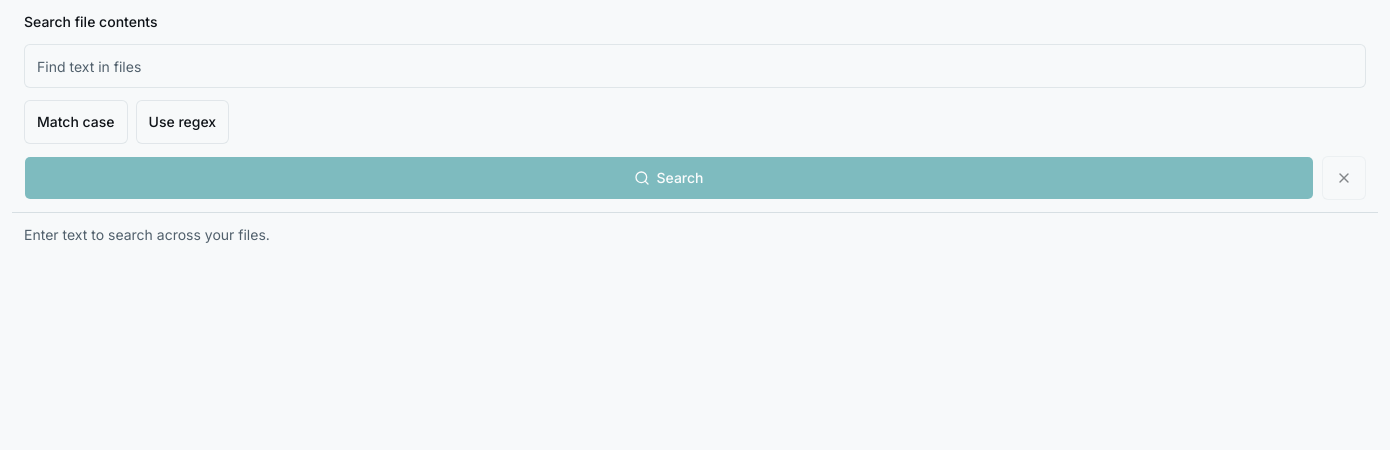
Test: loads the next page with the returned cursor and appends results
This screenshot has width=1390, height=450.
Step 1. Type "items" into the field → (695, 66), box [24, 44, 1366, 88]
Then press Enter
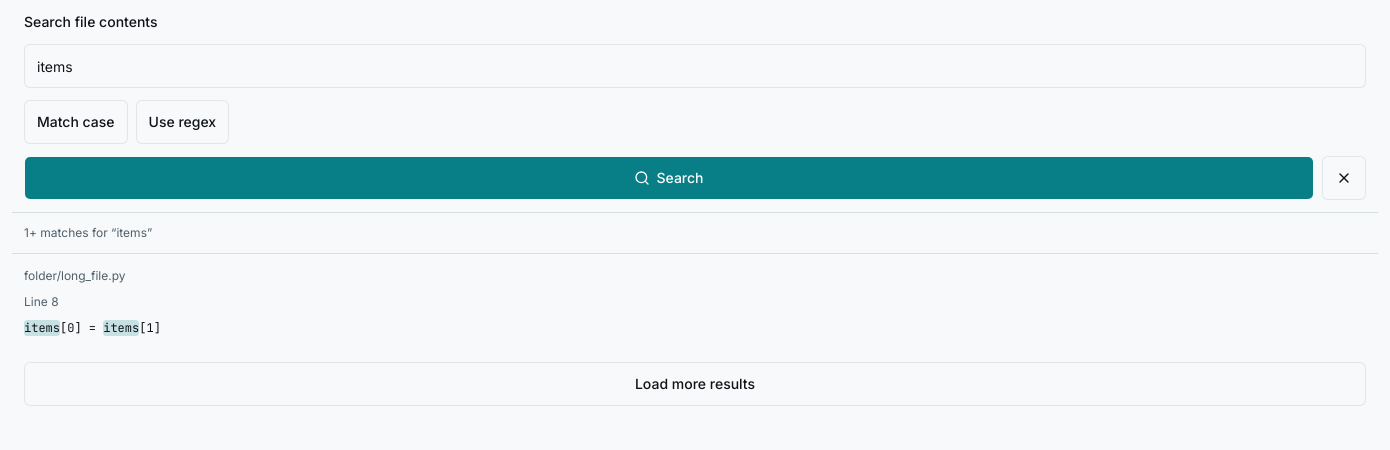
Expected: the message reads "1+ matches for “items”", [12, 213, 1378, 254]
Step 2. Click the button "Load more results" → (695, 384), box [24, 362, 1366, 406]
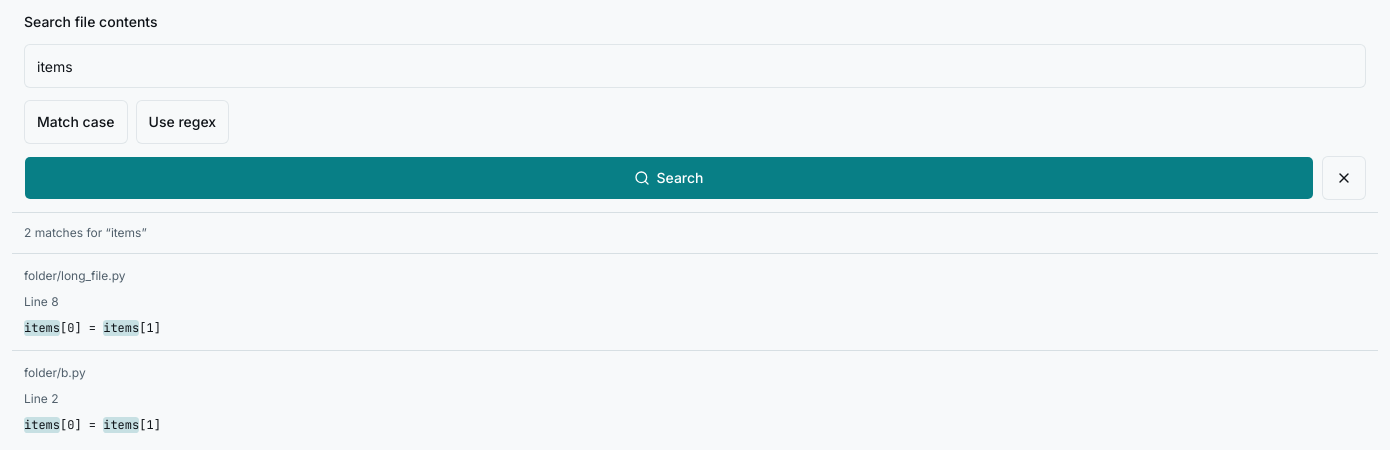
Expected: the text "folder/long_file.py" is shown, [24, 268, 126, 283]
Expected: the text "folder/b.py" is shown, [24, 365, 86, 380]
Expected: the button "Load more results" is gone
